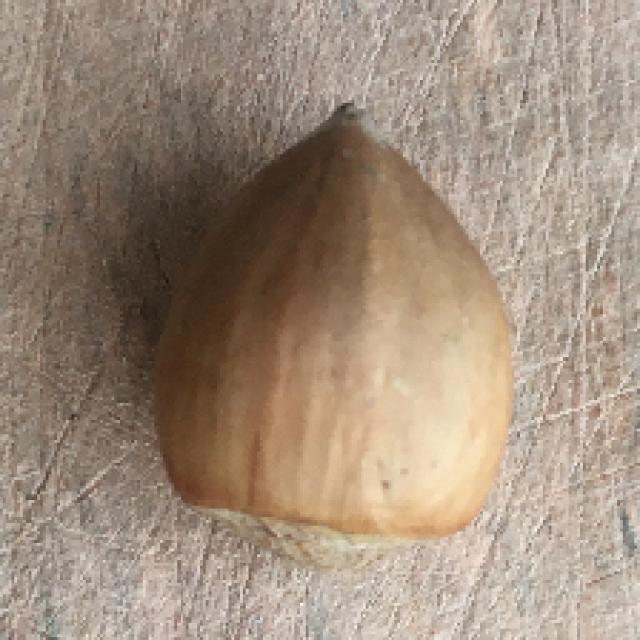DamagedHazelnut: (151, 104, 512, 573)
